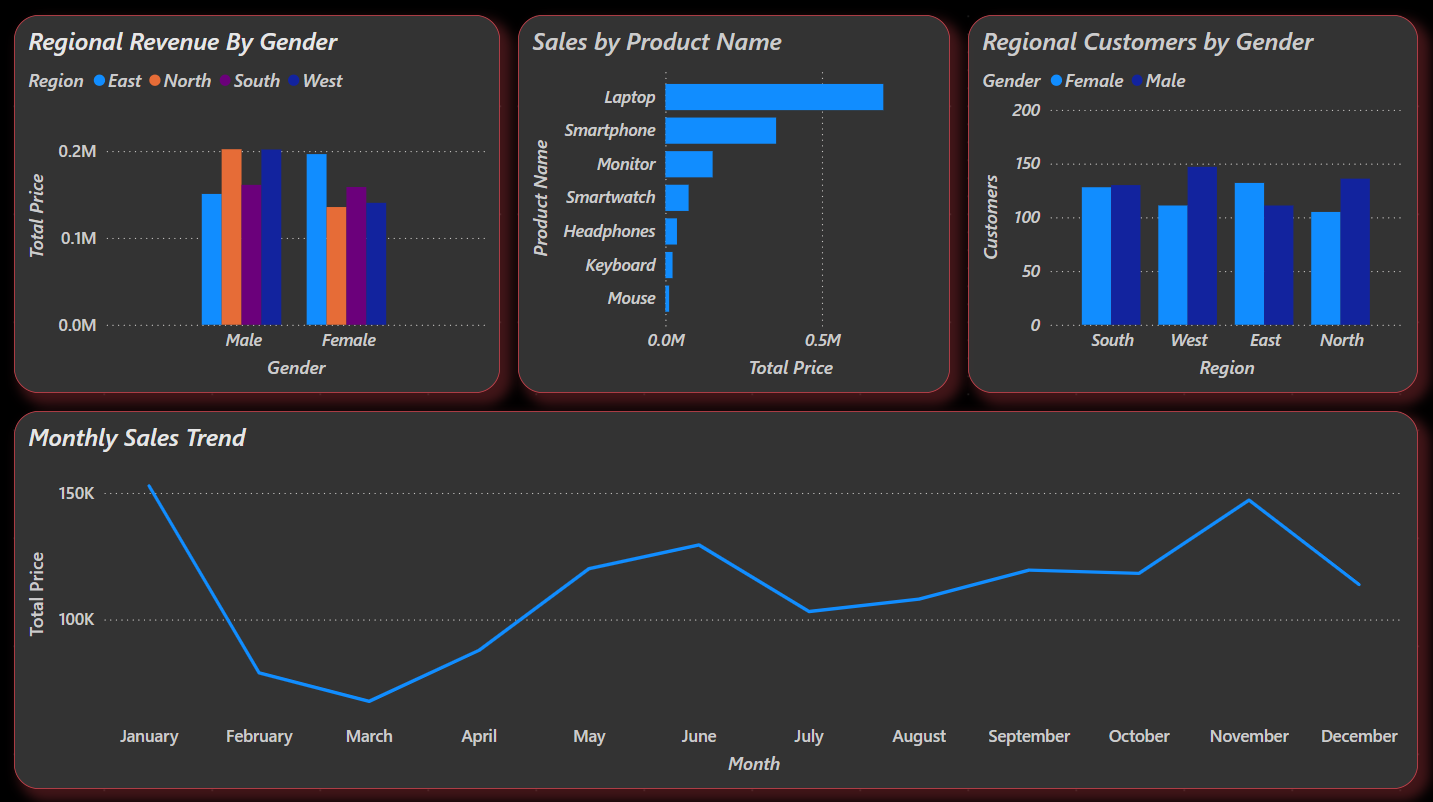

This screenshot's page, from the dashboard's own definition file:
{"tool":"powerbi","page":{"name":"Page 2","canvas":[1280,720],"ordinal":1},"visuals":[{"type":"clusteredColumnChart","title":"Regional Revenue By Gender","fields":{"Category":["realistic_e_commerce_sales_data.Gender"],"Y":["Sum(realistic_e_commerce_sales_data.Total Price)"],"Series":["realistic_e_commerce_sales_data.Region"]},"box":[16,16,432,336],"z":0},{"type":"clusteredColumnChart","title":"Regional Customers by Gender","fields":{"Category":["realistic_e_commerce_sales_data.Region"],"Series":["realistic_e_commerce_sales_data.Gender"],"Y":["CountNonNull(realistic_e_commerce_sales_data.Customer ID)"]},"box":[864,16,400,336],"z":1000},{"type":"clusteredBarChart","title":"Sales by Product Name","fields":{"Y":["Sum(realistic_e_commerce_sales_data.Total Price)"],"Category":["realistic_e_commerce_sales_data.Product Name"]},"box":[464,16,384,336],"z":3001},{"type":"lineChart","title":"Monthly Sales Trend","fields":{"Category":["realistic_e_commerce_sales_data.Order Date.Variation.Date Hierarchy.Month"],"Y":["Sum(realistic_e_commerce_sales_data.Total Price)"]},"box":[16,368,1248,336],"z":3002}]}

Visuals, with their boxes in screenshot pixels (x1, y1, x2, y2), scaled from the page's 1280x720 canvas onto the 1433x802 screenshot:
"Regional Revenue By Gender" clusteredColumnChart: [18, 18, 502, 392]
"Regional Customers by Gender" clusteredColumnChart: [967, 18, 1415, 392]
"Sales by Product Name" clusteredBarChart: [519, 18, 949, 392]
"Monthly Sales Trend" lineChart: [18, 410, 1415, 784]
